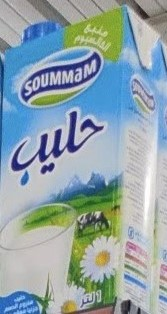soummam_milk: (1, 1, 167, 314)
